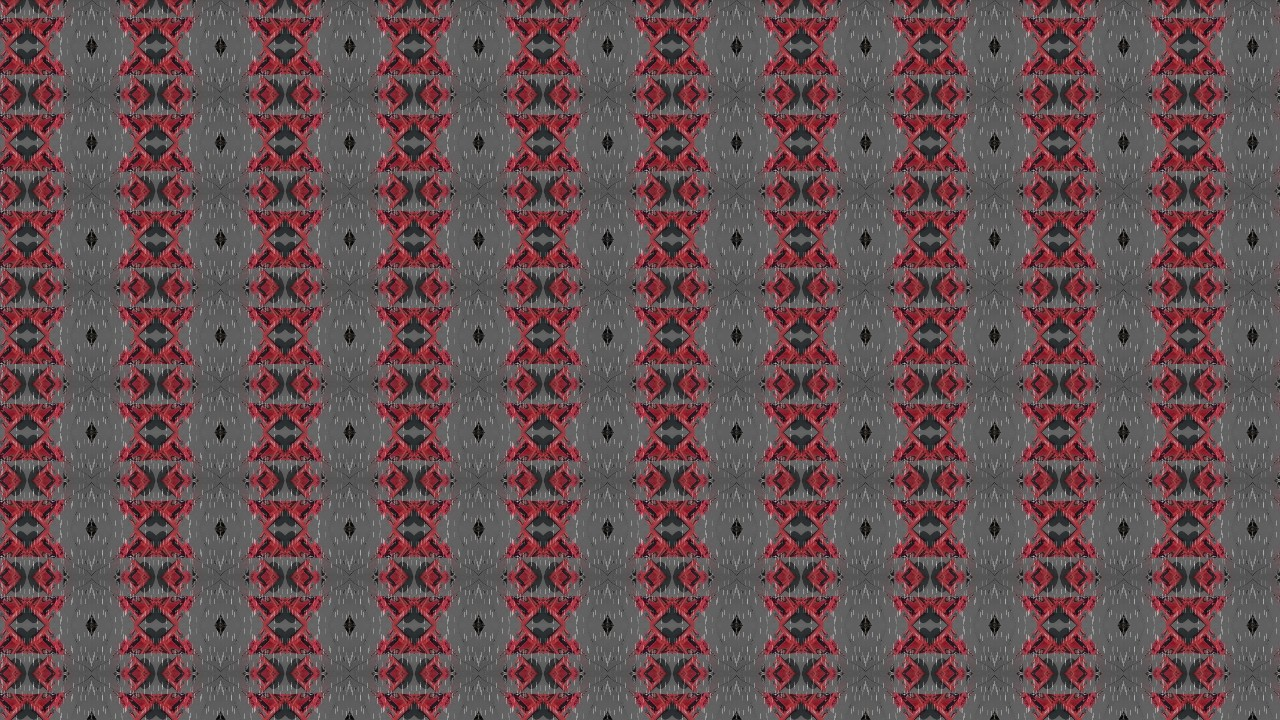chock: (25, 6, 63, 45), (116, 6, 154, 45), (154, 6, 192, 45), (246, 6, 284, 45), (284, 6, 322, 45), (375, 6, 413, 45), (413, 6, 451, 45), (505, 6, 543, 45), (543, 6, 581, 45), (634, 6, 672, 45), (672, 6, 710, 45), (764, 6, 802, 45), (802, 6, 840, 45), (893, 6, 931, 45), (931, 6, 969, 45), (1023, 6, 1061, 45), (1061, 6, 1099, 45), (1152, 6, 1190, 45), (1190, 6, 1228, 45), (25, 103, 63, 142), (116, 103, 154, 142), (154, 103, 192, 142), (246, 103, 284, 142), (284, 103, 322, 142), (375, 103, 413, 142), (413, 103, 451, 142), (505, 103, 543, 142), (543, 103, 581, 142), (634, 103, 672, 142), (672, 103, 710, 142), (764, 103, 802, 142), (802, 103, 840, 142), (893, 103, 931, 142), (931, 103, 969, 142), (1023, 103, 1061, 142), (1061, 103, 1099, 142), (1152, 103, 1190, 142), (1190, 103, 1228, 142), (25, 200, 63, 239), (116, 200, 154, 239), (154, 200, 192, 239), (246, 200, 284, 239), (284, 200, 322, 239), (375, 200, 413, 239), (413, 200, 451, 239), (505, 200, 543, 239), (543, 200, 581, 239), (634, 200, 672, 239), (672, 200, 710, 239), (764, 200, 802, 239), (802, 200, 840, 239), (893, 200, 931, 239), (931, 200, 969, 239), (1023, 200, 1061, 239), (1061, 200, 1099, 239), (1152, 200, 1190, 239), (1190, 200, 1228, 239), (25, 297, 63, 336), (116, 297, 154, 336), (154, 297, 192, 336), (246, 297, 284, 336), (284, 297, 322, 336), (375, 297, 413, 336), (413, 297, 451, 336), (505, 297, 543, 336), (543, 297, 581, 336), (634, 297, 672, 336), (672, 297, 710, 336), (764, 297, 802, 336), (802, 297, 840, 336), (893, 297, 931, 336), (931, 297, 969, 336), (1023, 297, 1061, 336), (1061, 297, 1099, 336), (1152, 297, 1190, 336), (1190, 297, 1228, 336), (25, 394, 63, 433), (116, 394, 154, 433), (154, 394, 192, 433), (246, 394, 284, 433), (284, 394, 322, 433), (375, 394, 413, 433), (413, 394, 451, 433), (505, 394, 543, 433), (543, 394, 581, 433), (634, 394, 672, 433), (672, 394, 710, 433), (764, 394, 802, 433), (802, 394, 840, 433), (893, 394, 931, 433), (931, 394, 969, 433), (1023, 394, 1061, 433), (1061, 394, 1099, 433), (1152, 394, 1190, 433), (1190, 394, 1228, 433), (25, 491, 63, 530), (116, 491, 154, 530), (154, 491, 192, 530), (246, 491, 284, 530), (284, 491, 322, 530), (375, 491, 413, 530), (413, 491, 451, 530), (505, 491, 543, 530), (543, 491, 581, 530), (634, 491, 672, 530), (672, 491, 710, 530), (764, 491, 802, 530), (802, 491, 840, 530), (893, 491, 931, 530), (931, 491, 969, 530), (1023, 491, 1061, 530), (1061, 491, 1099, 530), (1152, 491, 1190, 530), (1190, 491, 1228, 530), (25, 588, 63, 627), (116, 588, 154, 627), (154, 588, 192, 627), (246, 588, 284, 627), (284, 588, 322, 627), (375, 588, 413, 627), (413, 588, 451, 627), (505, 588, 543, 627), (543, 588, 581, 627), (634, 588, 672, 627), (672, 588, 710, 627), (764, 588, 802, 627), (802, 588, 840, 627), (893, 588, 931, 627), (931, 588, 969, 627), (1023, 588, 1061, 627), (1061, 588, 1099, 627), (1152, 588, 1190, 627), (1190, 588, 1228, 627), (25, 45, 63, 83), (116, 45, 154, 83), (154, 45, 192, 83), (246, 45, 284, 83), (284, 45, 322, 83), (375, 45, 413, 83), (413, 45, 451, 83), (505, 45, 543, 83), (543, 45, 581, 83), (634, 45, 672, 83), (672, 45, 710, 83), (764, 45, 802, 83), (802, 45, 840, 83), (893, 45, 931, 83), (931, 45, 969, 83), (1023, 45, 1061, 83), (1061, 45, 1099, 83), (1152, 45, 1190, 83), (1190, 45, 1228, 83), (25, 142, 63, 180), (116, 142, 154, 180), (154, 142, 192, 180), (246, 142, 284, 180), (284, 142, 322, 180), (375, 142, 413, 180), (413, 142, 451, 180), (505, 142, 543, 180), (543, 142, 581, 180), (634, 142, 672, 180), (672, 142, 710, 180), (764, 142, 802, 180), (802, 142, 840, 180), (893, 142, 931, 180), (931, 142, 969, 180), (1023, 142, 1061, 180), (1061, 142, 1099, 180), (1152, 142, 1190, 180), (1190, 142, 1228, 180), (25, 239, 63, 277), (116, 239, 154, 277), (154, 239, 192, 277), (246, 239, 284, 277), (284, 239, 322, 277), (375, 239, 413, 277), (413, 239, 451, 277), (505, 239, 543, 277), (543, 239, 581, 277), (634, 239, 672, 277), (672, 239, 710, 277), (764, 239, 802, 277), (802, 239, 840, 277), (893, 239, 931, 277), (931, 239, 969, 277), (1023, 239, 1061, 277), (1061, 239, 1099, 277), (1152, 239, 1190, 277), (1190, 239, 1228, 277), (25, 336, 63, 374), (116, 336, 154, 374), (154, 336, 192, 374), (246, 336, 284, 374), (284, 336, 322, 374), (375, 336, 413, 374), (413, 336, 451, 374), (505, 336, 543, 374), (543, 336, 581, 374), (634, 336, 672, 374), (672, 336, 710, 374), (764, 336, 802, 374), (802, 336, 840, 374), (893, 336, 931, 374), (931, 336, 969, 374), (1023, 336, 1061, 374), (1061, 336, 1099, 374), (1152, 336, 1190, 374), (1190, 336, 1228, 374), (25, 433, 63, 471), (116, 433, 154, 471), (154, 433, 192, 471), (246, 433, 284, 471), (284, 433, 322, 471), (375, 433, 413, 471), (413, 433, 451, 471), (505, 433, 543, 471), (543, 433, 581, 471), (634, 433, 672, 471), (672, 433, 710, 471), (764, 433, 802, 471), (802, 433, 840, 471), (893, 433, 931, 471), (931, 433, 969, 471), (1023, 433, 1061, 471), (1061, 433, 1099, 471), (1152, 433, 1190, 471), (1190, 433, 1228, 471), (25, 530, 63, 568), (116, 530, 154, 568), (154, 530, 192, 568), (246, 530, 284, 568), (284, 530, 322, 568), (375, 530, 413, 568), (413, 530, 451, 568), (505, 530, 543, 568), (543, 530, 581, 568), (634, 530, 672, 568), (672, 530, 710, 568), (764, 530, 802, 568), (802, 530, 840, 568), (893, 530, 931, 568), (931, 530, 969, 568), (1023, 530, 1061, 568), (1061, 530, 1099, 568), (1152, 530, 1190, 568), (1190, 530, 1228, 568), (25, 627, 63, 665), (116, 627, 154, 665), (154, 627, 192, 665), (246, 627, 284, 665), (284, 627, 322, 665), (375, 627, 413, 665), (413, 627, 451, 665), (505, 627, 543, 665), (543, 627, 581, 665), (634, 627, 672, 665), (672, 627, 710, 665), (764, 627, 802, 665), (802, 627, 840, 665), (893, 627, 931, 665), (931, 627, 969, 665), (1023, 627, 1061, 665), (1061, 627, 1099, 665), (1152, 627, 1190, 665), (1190, 627, 1228, 665), (25, 685, 63, 720), (116, 685, 154, 720), (154, 685, 192, 720), (246, 685, 284, 720), (284, 685, 322, 720), (375, 685, 413, 720), (413, 685, 451, 720), (505, 685, 543, 720), (543, 685, 581, 720), (634, 685, 672, 720), (672, 685, 710, 720), (764, 685, 802, 720), (802, 685, 840, 720), (893, 685, 931, 720), (931, 685, 969, 720), (1023, 685, 1061, 720), (1061, 685, 1099, 720), (1152, 685, 1190, 720), (1190, 685, 1228, 720), (0, 6, 25, 45), (0, 103, 25, 142), (0, 200, 25, 239), (0, 297, 25, 336), (0, 394, 25, 433), (0, 491, 25, 530), (0, 588, 25, 627), (0, 45, 25, 83), (0, 142, 25, 180), (0, 239, 25, 277), (0, 336, 25, 374), (0, 433, 25, 471), (0, 530, 25, 568), (0, 627, 25, 665), (0, 685, 25, 720), (154, 72, 192, 93), (246, 72, 284, 93), (413, 72, 451, 93), (505, 72, 543, 93), (672, 72, 710, 93), (764, 72, 802, 93), (931, 72, 969, 93), (1023, 72, 1061, 93), (1190, 72, 1228, 93), (154, 93, 192, 114), (246, 93, 284, 114), (413, 93, 451, 114), (505, 93, 543, 114), (672, 93, 710, 114), (764, 93, 802, 114), (931, 93, 969, 114), (1023, 93, 1061, 114), (1190, 93, 1228, 114), (154, 169, 192, 190), (246, 169, 284, 190), (413, 169, 451, 190), (505, 169, 543, 190), (672, 169, 710, 190), (764, 169, 802, 190), (931, 169, 969, 190), (1023, 169, 1061, 190), (1190, 169, 1228, 190), (154, 190, 192, 211), (246, 190, 284, 211), (413, 190, 451, 211), (505, 190, 543, 211), (672, 190, 710, 211), (764, 190, 802, 211), (931, 190, 969, 211), (1023, 190, 1061, 211), (1190, 190, 1228, 211), (154, 266, 192, 287), (246, 266, 284, 287), (413, 266, 451, 287), (505, 266, 543, 287), (672, 266, 710, 287), (764, 266, 802, 287), (931, 266, 969, 287), (1023, 266, 1061, 287), (1190, 266, 1228, 287), (154, 287, 192, 308), (246, 287, 284, 308), (413, 287, 451, 308), (505, 287, 543, 308), (672, 287, 710, 308), (764, 287, 802, 308), (931, 287, 969, 308), (1023, 287, 1061, 308), (1190, 287, 1228, 308), (154, 363, 192, 384), (246, 363, 284, 384), (413, 363, 451, 384), (505, 363, 543, 384), (672, 363, 710, 384), (764, 363, 802, 384), (931, 363, 969, 384), (1023, 363, 1061, 384), (1190, 363, 1228, 384), (154, 384, 192, 405), (246, 384, 284, 405), (413, 384, 451, 405), (505, 384, 543, 405), (672, 384, 710, 405), (764, 384, 802, 405), (931, 384, 969, 405), (1023, 384, 1061, 405), (1190, 384, 1228, 405), (154, 460, 192, 481), (246, 460, 284, 481), (413, 460, 451, 481), (505, 460, 543, 481), (672, 460, 710, 481), (764, 460, 802, 481), (931, 460, 969, 481), (1023, 460, 1061, 481), (1190, 460, 1228, 481), (154, 481, 192, 502), (246, 481, 284, 502), (413, 481, 451, 502), (505, 481, 543, 502), (672, 481, 710, 502), (764, 481, 802, 502), (931, 481, 969, 502), (1023, 481, 1061, 502), (1190, 481, 1228, 502), (154, 557, 192, 578), (246, 557, 284, 578), (413, 557, 451, 578), (505, 557, 543, 578), (672, 557, 710, 578), (764, 557, 802, 578), (931, 557, 969, 578), (1023, 557, 1061, 578), (1190, 557, 1228, 578), (154, 578, 192, 599), (246, 578, 284, 599), (413, 578, 451, 599), (505, 578, 543, 599), (672, 578, 710, 599), (764, 578, 802, 599), (931, 578, 969, 599), (1023, 578, 1061, 599), (1190, 578, 1228, 599), (154, 654, 192, 675), (246, 654, 284, 675), (413, 654, 451, 675), (505, 654, 543, 675), (672, 654, 710, 675), (764, 654, 802, 675), (931, 654, 969, 675), (1023, 654, 1061, 675), (1190, 654, 1228, 675), (154, 675, 192, 696), (246, 675, 284, 696), (413, 675, 451, 696), (505, 675, 543, 696), (672, 675, 710, 696), (764, 675, 802, 696), (931, 675, 969, 696), (1023, 675, 1061, 696), (1190, 675, 1228, 696), (25, 72, 62, 93), (117, 72, 154, 93), (284, 72, 321, 93), (376, 72, 413, 93), (543, 72, 580, 93), (635, 72, 672, 93), (802, 72, 839, 93), (894, 72, 931, 93), (1061, 72, 1098, 93), (1153, 72, 1190, 93), (25, 93, 62, 114), (117, 93, 154, 114), (284, 93, 321, 114), (376, 93, 413, 114), (543, 93, 580, 114), (635, 93, 672, 114), (802, 93, 839, 114), (894, 93, 931, 114), (1061, 93, 1098, 114), (1153, 93, 1190, 114), (25, 169, 62, 190), (117, 169, 154, 190), (284, 169, 321, 190), (376, 169, 413, 190), (543, 169, 580, 190), (635, 169, 672, 190), (802, 169, 839, 190), (894, 169, 931, 190), (1061, 169, 1098, 190), (1153, 169, 1190, 190), (25, 190, 62, 211), (117, 190, 154, 211), (284, 190, 321, 211), (376, 190, 413, 211), (543, 190, 580, 211), (635, 190, 672, 211), (802, 190, 839, 211), (894, 190, 931, 211), (1061, 190, 1098, 211), (1153, 190, 1190, 211), (25, 266, 62, 287), (117, 266, 154, 287), (284, 266, 321, 287), (376, 266, 413, 287), (543, 266, 580, 287), (635, 266, 672, 287), (802, 266, 839, 287), (894, 266, 931, 287), (1061, 266, 1098, 287), (1153, 266, 1190, 287), (25, 287, 62, 308), (117, 287, 154, 308), (284, 287, 321, 308), (376, 287, 413, 308), (543, 287, 580, 308), (635, 287, 672, 308), (802, 287, 839, 308), (894, 287, 931, 308), (1061, 287, 1098, 308), (1153, 287, 1190, 308), (25, 363, 62, 384), (117, 363, 154, 384), (284, 363, 321, 384), (376, 363, 413, 384), (543, 363, 580, 384), (635, 363, 672, 384), (802, 363, 839, 384), (894, 363, 931, 384), (1061, 363, 1098, 384), (1153, 363, 1190, 384), (25, 384, 62, 405), (117, 384, 154, 405), (284, 384, 321, 405), (376, 384, 413, 405), (543, 384, 580, 405), (635, 384, 672, 405), (802, 384, 839, 405), (894, 384, 931, 405), (1061, 384, 1098, 405), (1153, 384, 1190, 405), (25, 460, 62, 481), (117, 460, 154, 481), (284, 460, 321, 481), (376, 460, 413, 481), (543, 460, 580, 481), (635, 460, 672, 481), (802, 460, 839, 481), (894, 460, 931, 481), (1061, 460, 1098, 481), (1153, 460, 1190, 481), (25, 481, 62, 502), (117, 481, 154, 502), (284, 481, 321, 502), (376, 481, 413, 502), (543, 481, 580, 502), (635, 481, 672, 502), (802, 481, 839, 502), (894, 481, 931, 502), (1061, 481, 1098, 502), (1153, 481, 1190, 502), (25, 557, 62, 578), (117, 557, 154, 578), (284, 557, 321, 578), (376, 557, 413, 578), (543, 557, 580, 578), (635, 557, 672, 578), (802, 557, 839, 578), (894, 557, 931, 578), (1061, 557, 1098, 578), (1153, 557, 1190, 578), (25, 578, 62, 599), (117, 578, 154, 599), (284, 578, 321, 599), (376, 578, 413, 599), (543, 578, 580, 599), (635, 578, 672, 599), (802, 578, 839, 599), (894, 578, 931, 599), (1061, 578, 1098, 599), (1153, 578, 1190, 599), (25, 654, 62, 675), (117, 654, 154, 675), (284, 654, 321, 675), (376, 654, 413, 675), (543, 654, 580, 675), (635, 654, 672, 675), (802, 654, 839, 675), (894, 654, 931, 675), (1061, 654, 1098, 675), (1153, 654, 1190, 675), (25, 675, 62, 696), (117, 675, 154, 696), (284, 675, 321, 696), (376, 675, 413, 696), (543, 675, 580, 696), (635, 675, 672, 696), (802, 675, 839, 696), (894, 675, 931, 696), (1061, 675, 1098, 696), (1153, 675, 1190, 696), (154, 0, 192, 17), (246, 0, 284, 17), (413, 0, 451, 17), (505, 0, 543, 17), (672, 0, 710, 17), (764, 0, 802, 17), (931, 0, 969, 17), (1023, 0, 1061, 17), (1190, 0, 1228, 17), (25, 0, 62, 17), (117, 0, 154, 17), (284, 0, 321, 17), (376, 0, 413, 17), (543, 0, 580, 17), (635, 0, 672, 17), (802, 0, 839, 17), (894, 0, 931, 17), (1061, 0, 1098, 17), (1153, 0, 1190, 17), (0, 72, 25, 93), (0, 93, 25, 114), (0, 169, 25, 190), (0, 190, 25, 211), (0, 266, 25, 287), (0, 287, 25, 308), (0, 363, 25, 384), (0, 384, 25, 405), (0, 460, 25, 481), (0, 481, 25, 502), (0, 557, 25, 578), (0, 578, 25, 599), (0, 654, 25, 675), (0, 675, 25, 696), (0, 0, 25, 17)
